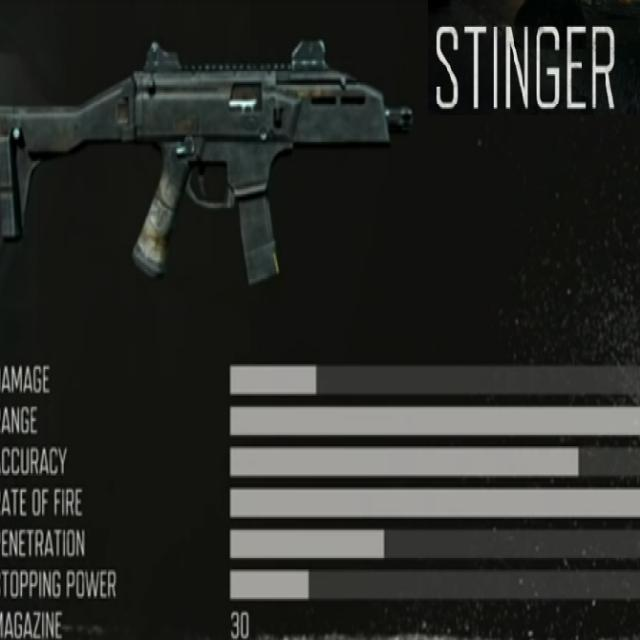Weapon: (0, 39, 412, 284)
